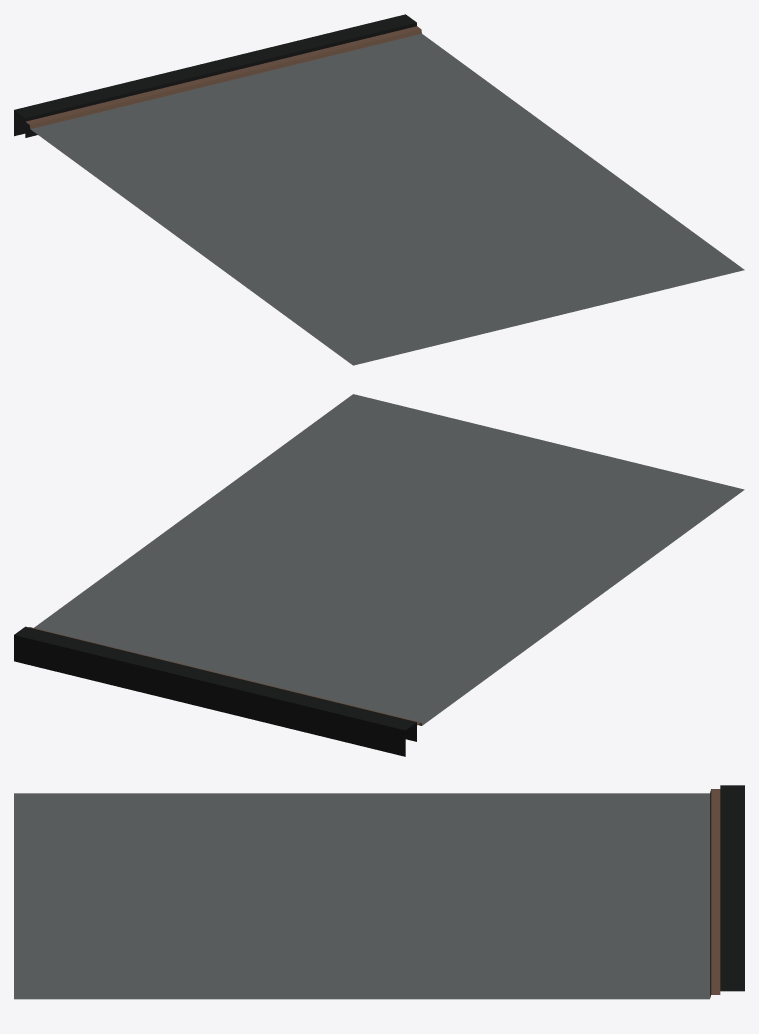
Rendered from FBLD_m30_wind_49_b.fbx.
The picture shows the model from 3 angles, top to bottom: view 1: azimuth 30°, elevation 25°; view 2: azimuth 150°, elevation 25°; view 3: azimuth 270°, elevation 25°; orthographic projection. The views are drawn at different scales.
Visible parts, largest first — view 1: FBLD_m30_wind_49_b; view 2: FBLD_m30_wind_49_b; view 3: FBLD_m30_wind_49_b.
Part boxes in pixels (x1,y1,x2,y2): FBLD_m30_wind_49_b: (14,14,744,365); FBLD_m30_wind_49_b: (14,394,744,756); FBLD_m30_wind_49_b: (14,785,744,999).
Size of the model in its own units: 4000 by 258 by 6000.
